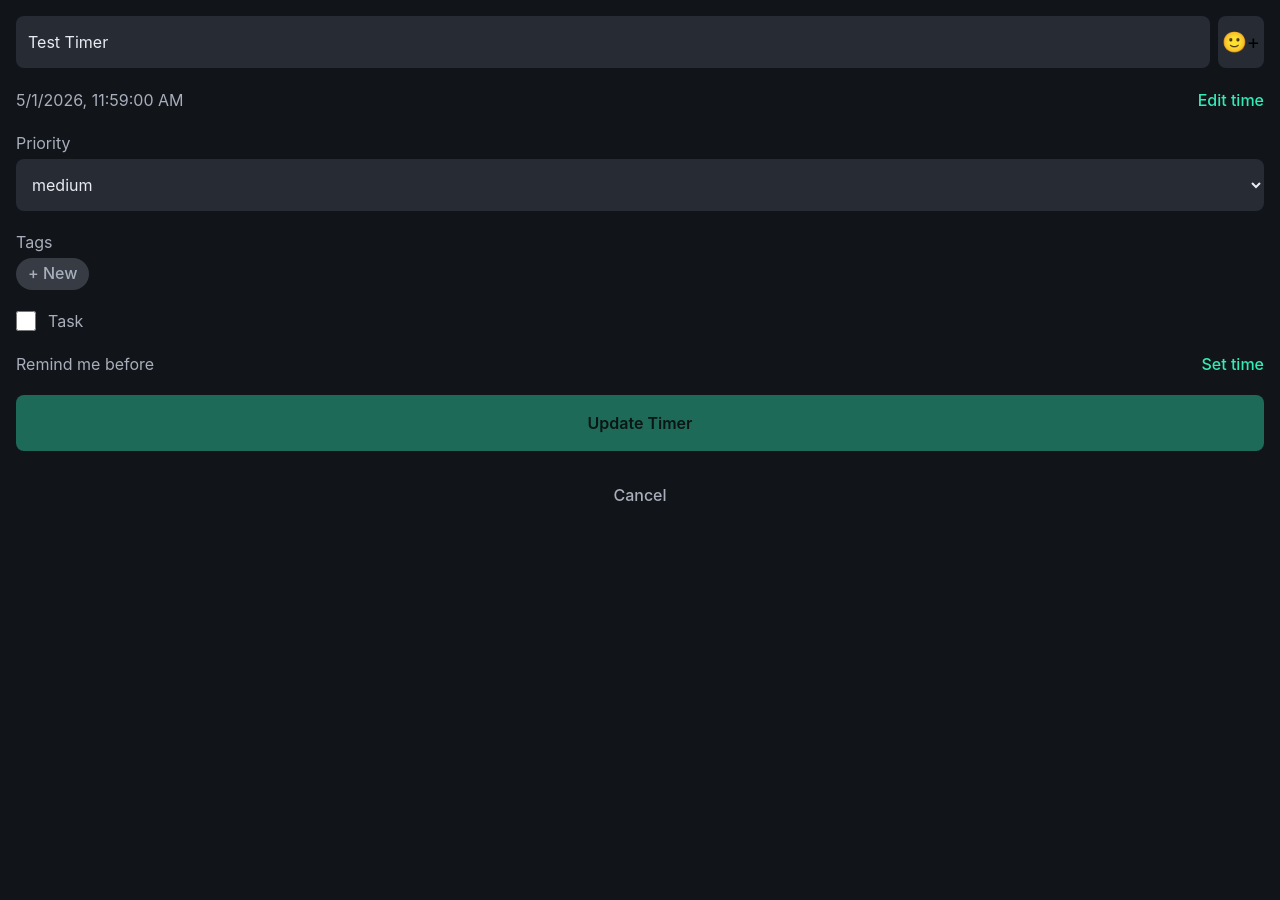
it: EditTimerView — lead time notification preview › preview shows "Invalid" when the notification time would fall in the past
Click the button "Set time".
click(1233, 364)  # box [1202,352,1264,375]
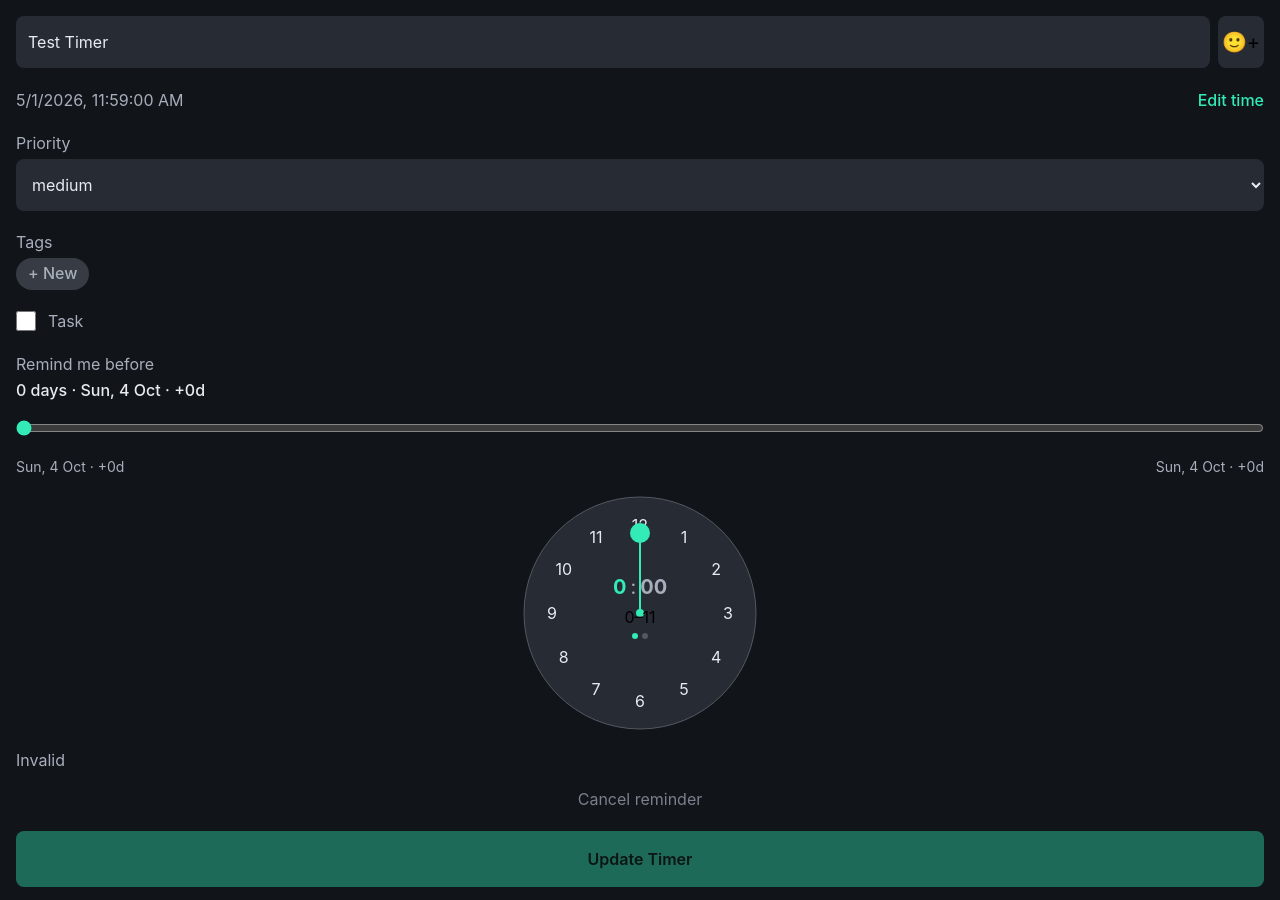
Expected: the text with test id "lead-time-preview" reads "Invalid", [16,750,65,770]
